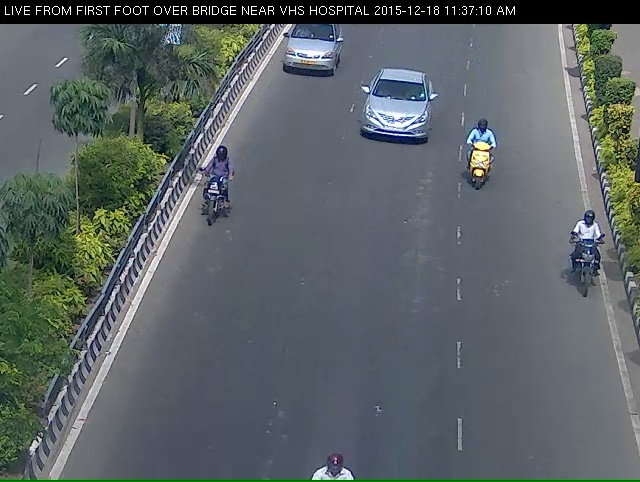Car: (345, 76, 432, 162), (276, 26, 335, 95)
Person: (567, 198, 613, 312), (182, 152, 232, 254), (458, 127, 509, 210)
